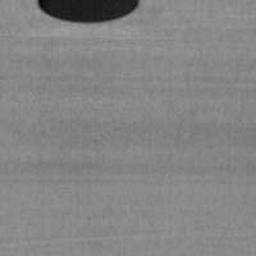Punching: (37, 0, 140, 24)
